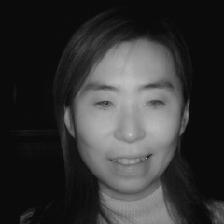happy: (47, 13, 206, 194)
